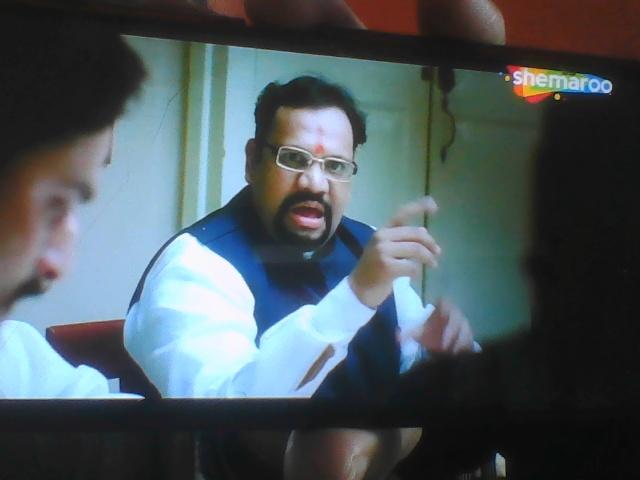fake: (234, 71, 364, 256)
